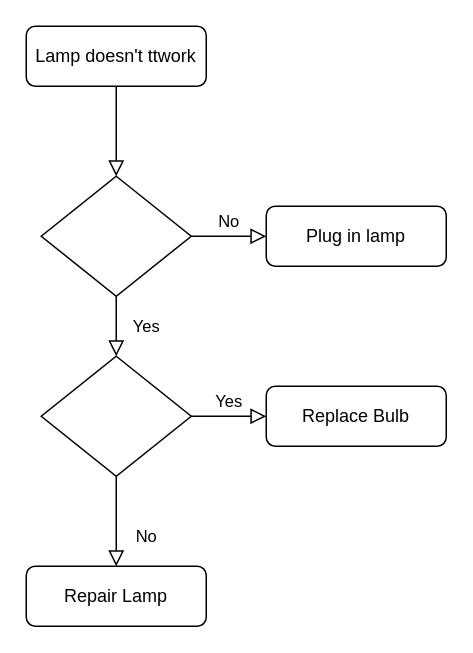
Image size: 473x653. Some labels were removed from this diagram. Each missing label, with the centre of its shape:
"Bulb burned out?" belongs at point (115, 415).
"Lamp plugged in?" belongs at point (115, 235).
